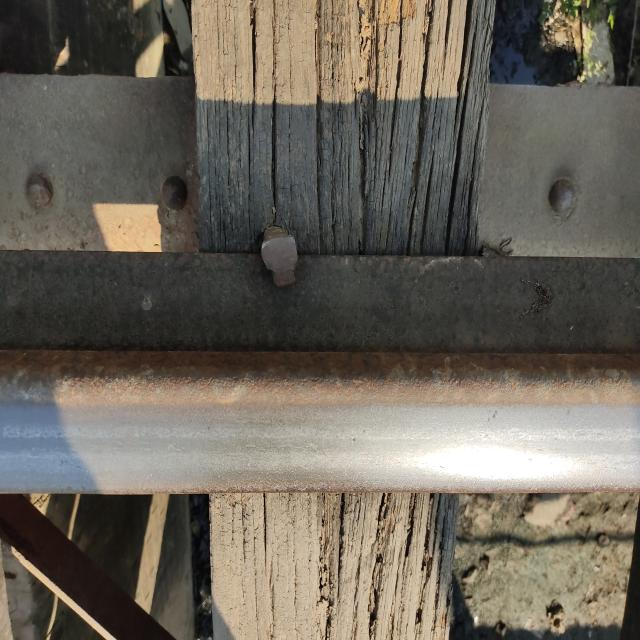Faults: (258, 222, 306, 301)
